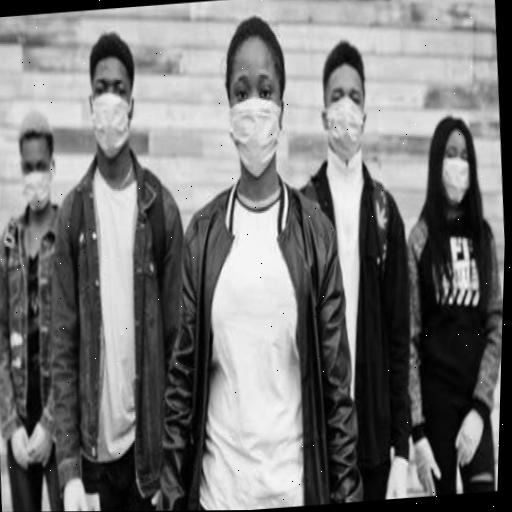mask: (221, 31, 290, 178), (84, 40, 140, 158), (318, 54, 371, 160), (15, 110, 60, 212), (432, 123, 475, 207)
